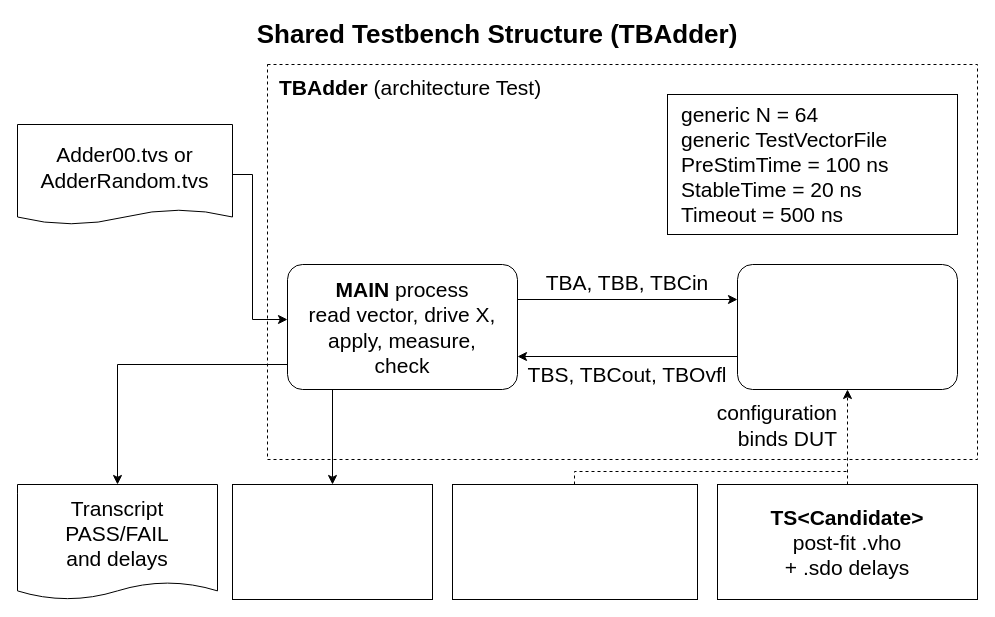
Image size: 995x617. Some labels were removed from this diagram. The centre of each missing label's shape, as x and y in pixels:
"DUT component Adder generic map (N => N)" goes at point 847,327.
"FS<Topology> RTL architecture" goes at point 575,542.
"wave.do inputs, expected, outputs, delays" goes at point 332,542.
